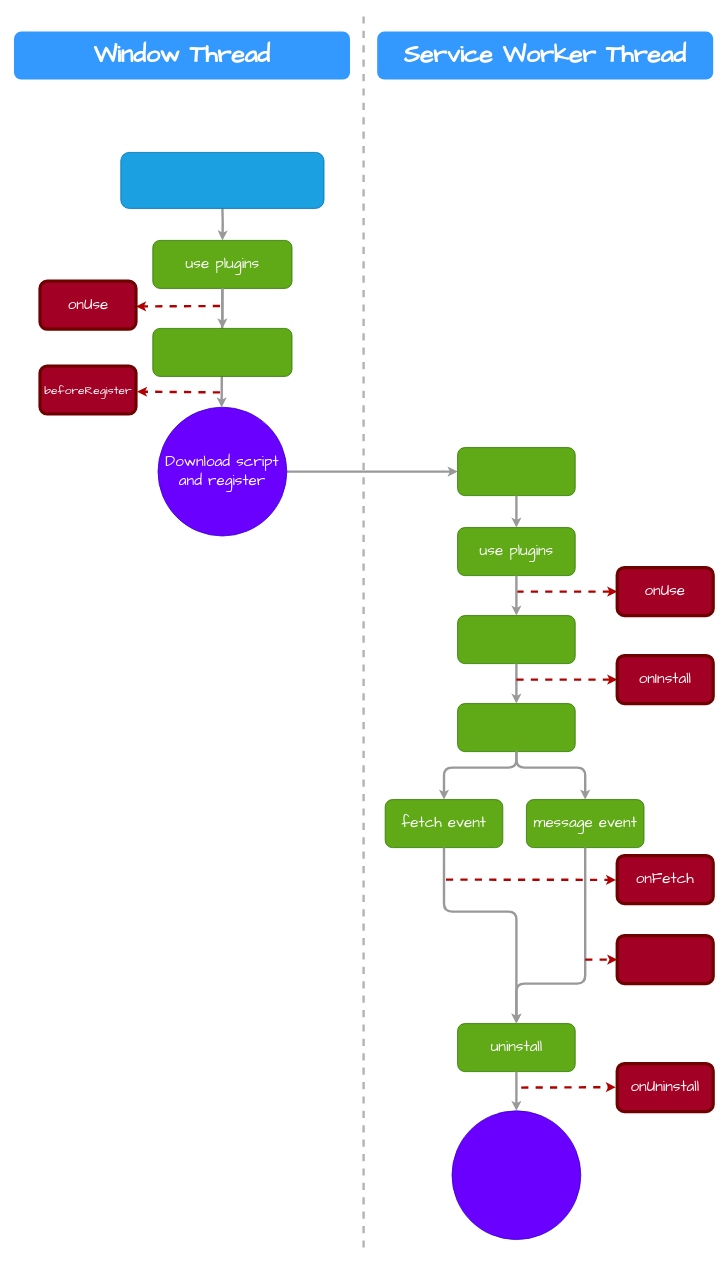
Image size: 728x1263. Some labels were removed from this diagram. The centre of each missing label's shape, as x and y in pixels:
"active event" belongs at [516,727].
"Execute Script" belongs at [516,471].
"glacier.register()" belongs at [222,352].
"install event" belongs at [516,639].
"new GlacierSW('xxx.js')" belongs at [222,180].
"onMessage" belongs at [664,959].
"Redundant" belongs at [516,1175].
